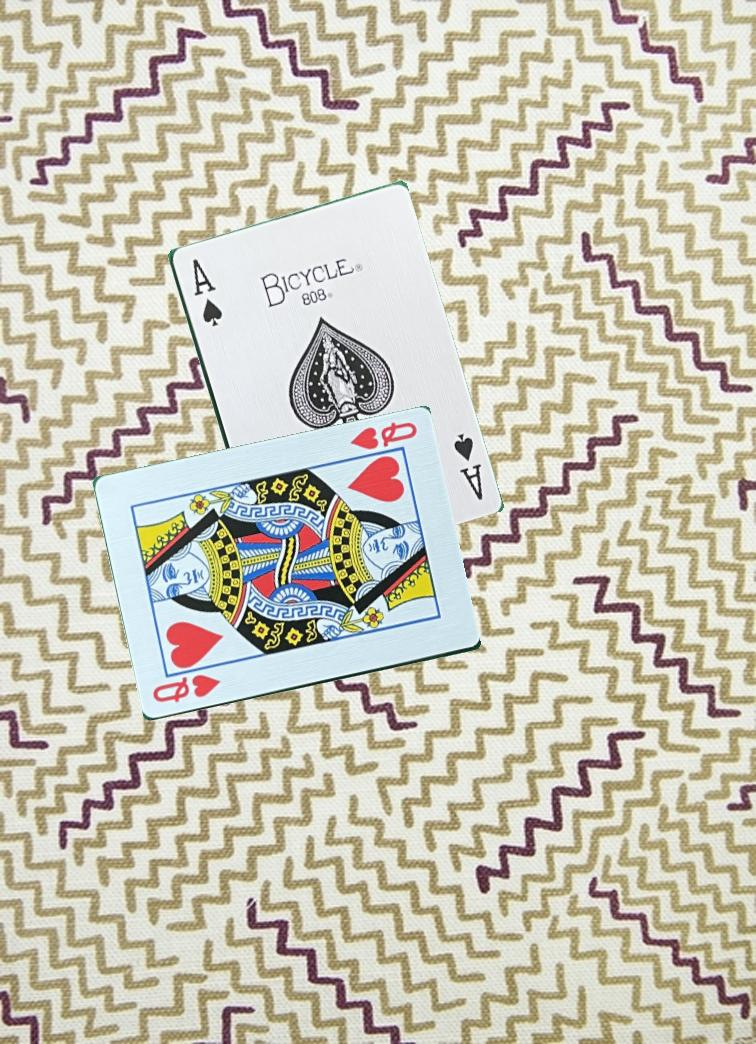as: (188, 254, 224, 330), (449, 427, 485, 503)
qh: (148, 671, 224, 707), (346, 419, 420, 454)
